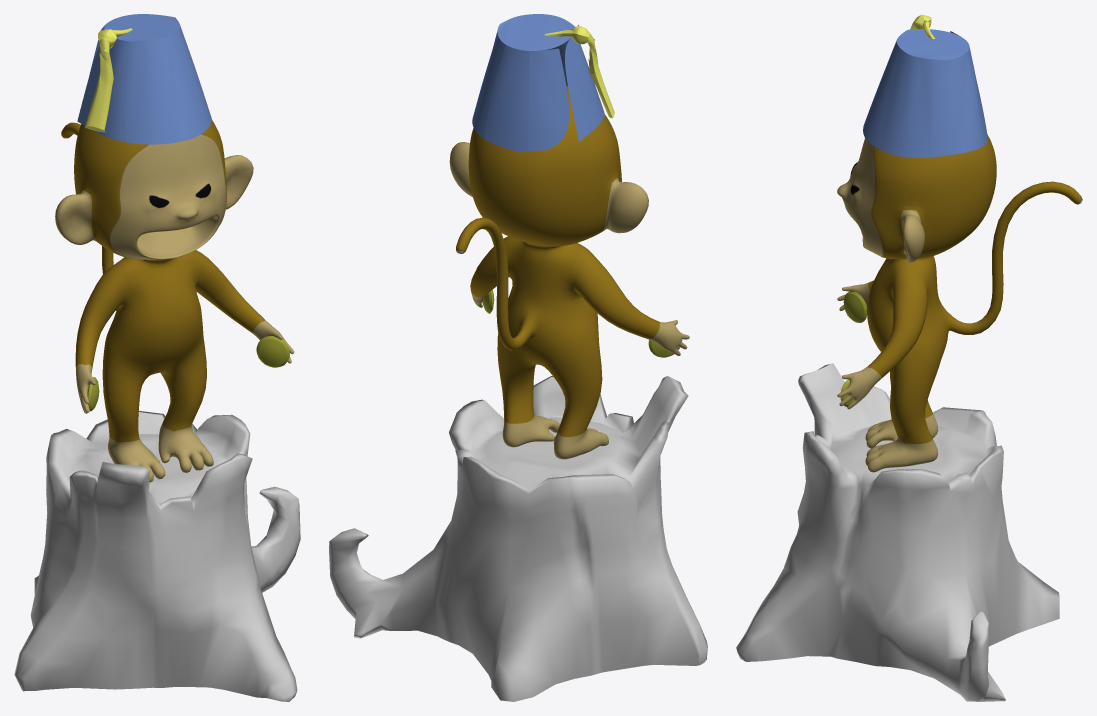
The model's file is Prop.fbx.
3 renders of one model, left to right at view 1: azimuth 30°, elevation 25°; view 2: azimuth 150°, elevation 25°; view 3: azimuth 270°, elevation 25°, orthographic. The views are drawn at different scales.
Parts seen in each view (by area): view 1: defaultMaterial, Monkey; view 2: defaultMaterial, Monkey; view 3: defaultMaterial, Monkey.
Part boxes in pixels (box(x1,y1,x2,y2)): defaultMaterial: box(14, 410, 300, 701); Monkey: box(55, 14, 294, 482); defaultMaterial: box(329, 376, 707, 701); Monkey: box(449, 14, 689, 459); defaultMaterial: box(736, 363, 1059, 701); Monkey: box(837, 14, 1082, 472).
Size of the model in its own units: 0.3214 by 0.5901 by 0.3066.
